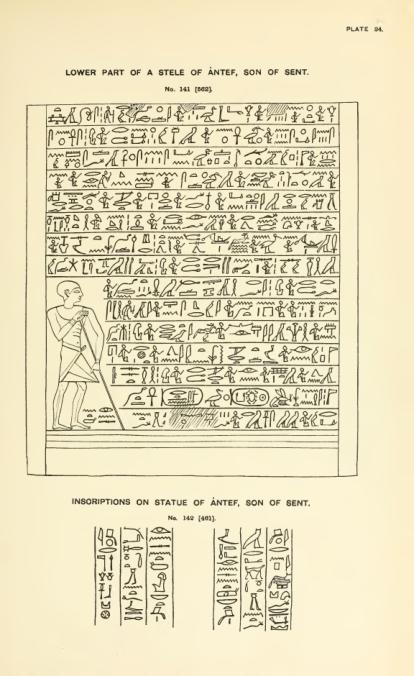circle: (158, 386, 205, 407), (228, 387, 271, 406)
